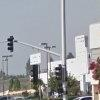Traffic light: (2, 26, 21, 64)
